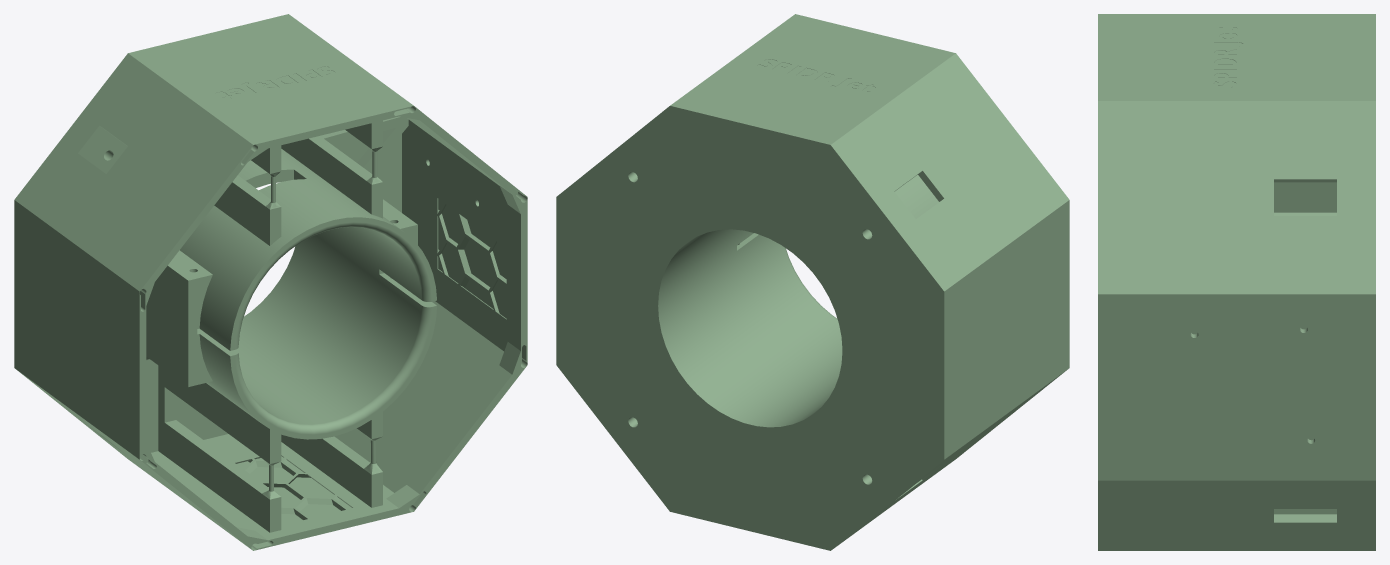
File: drone.glb
3 renders of one model, left to right at view 1: azimuth 30°, elevation 25°; view 2: azimuth 150°, elevation 25°; view 3: azimuth 270°, elevation 25°, orthographic. The views are drawn at different scales.
Parts seen in each view (by area): view 1: 7 sami; view 2: 7 sami; view 3: 7 sami.
Part boxes in pixels (box(x1,y1,x2,y2)): 7 sami: box(14, 14, 527, 550); 7 sami: box(556, 14, 1069, 550); 7 sami: box(1098, 14, 1375, 550).
Size of the model in its own units: 0.1715 by 0.1715 by 0.096.
